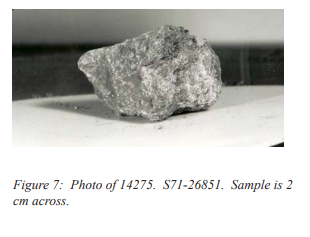Breccia: (76, 12, 237, 134)
